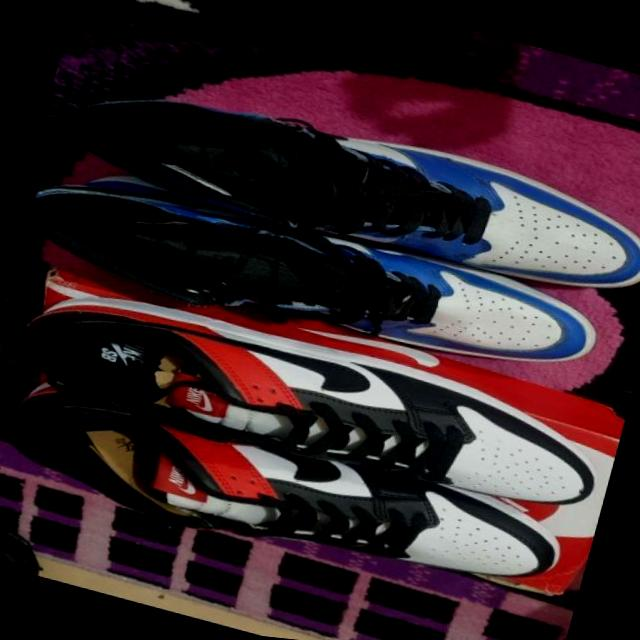nike_fake_jordan: (0, 259, 630, 542), (0, 143, 627, 414), (30, 49, 640, 325), (41, 376, 574, 606)
